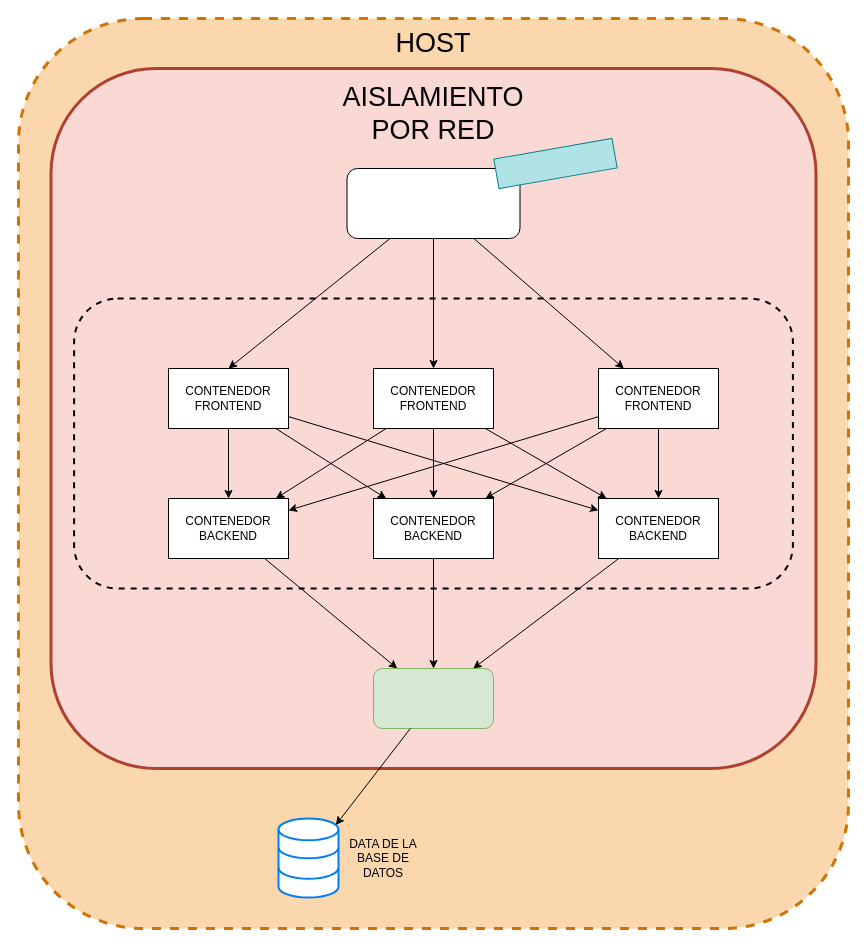
Image size: 867x947. Some labels were removed from this diagram. Each missing label, with the centre of its shape:
"CONTENEDOR BALANCEADOR DE CARGA" goes at point (433, 203).
"CONTENEDOR BASE DE DATOS" goes at point (433, 698).
"PORT EXPUESTO" goes at point (555, 163).
